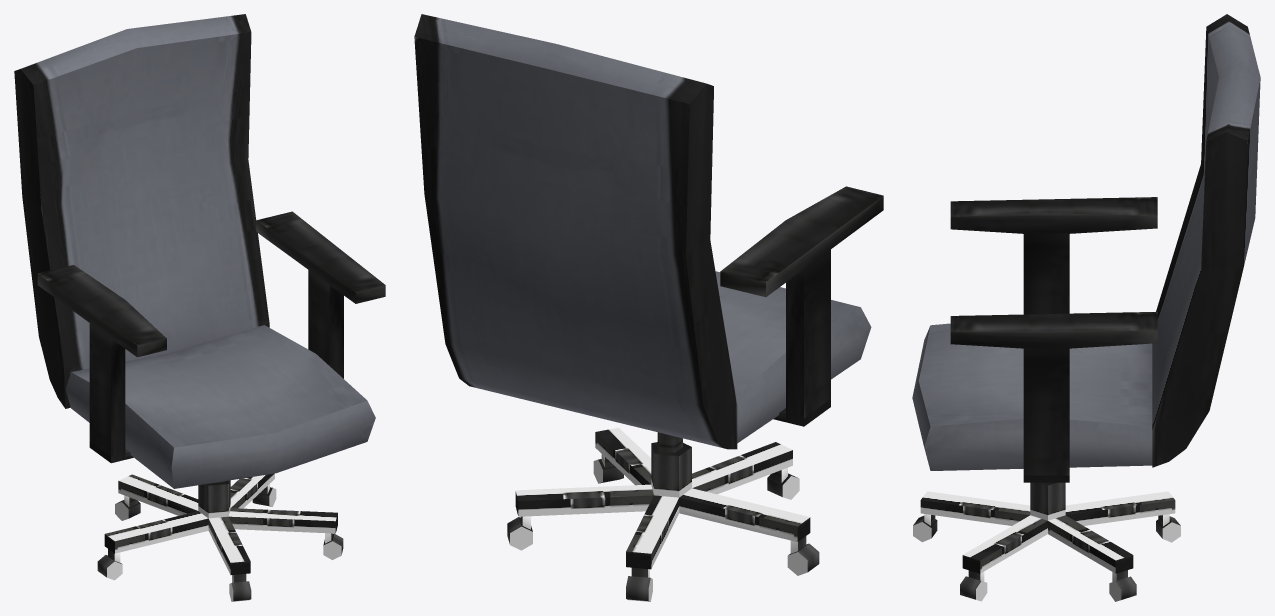
File: Office Chair_lod1.fbx
3 renders of one model, left to right at view 1: azimuth 30°, elevation 25°; view 2: azimuth 150°, elevation 25°; view 3: azimuth 270°, elevation 25°, orthographic. The views are drawn at different scales.
Visible parts, largest first — view 1: Chair_Back, Chair_Seat, Chair_Arm_Rest, Chair_Stand, Wheel4, Wheel5; view 2: Chair_Back, Chair_Stand, Chair_Arm_Rest, Chair_Seat, Wheel4, Wheel1, Wheel5, Wheel2; view 3: Chair_Back, Chair_Arm_Rest, Chair_Seat, Chair_Stand, Wheel3, Wheel2, Wheel5, Wheel1.
Boxes of the visible parts, bbox=[...] form: Chair_Back: bbox=[14, 14, 269, 408]; Chair_Seat: bbox=[65, 325, 375, 488]; Chair_Arm_Rest: bbox=[37, 211, 385, 463]; Chair_Stand: bbox=[104, 473, 337, 574]; Wheel4: bbox=[97, 549, 122, 580]; Wheel5: bbox=[229, 574, 251, 601]; Chair_Back: bbox=[414, 14, 737, 449]; Chair_Stand: bbox=[515, 427, 810, 569]; Chair_Arm_Rest: bbox=[720, 186, 883, 426]; Chair_Seat: bbox=[715, 271, 871, 443]; Wheel4: bbox=[787, 536, 819, 575]; Wheel1: bbox=[626, 567, 652, 601]; Wheel5: bbox=[767, 467, 799, 499]; Wheel2: bbox=[507, 516, 532, 550]; Chair_Back: bbox=[1152, 14, 1260, 467]; Chair_Arm_Rest: bbox=[950, 197, 1157, 482]; Chair_Seat: bbox=[912, 323, 1152, 470]; Chair_Stand: bbox=[920, 482, 1175, 573]; Wheel3: bbox=[960, 570, 987, 601]; Wheel2: bbox=[1109, 570, 1136, 601]; Wheel5: bbox=[913, 514, 937, 542]; Wheel1: bbox=[1156, 514, 1180, 542].
Size of the model in its own units: 2.06 by 3.53 by 2.27.
